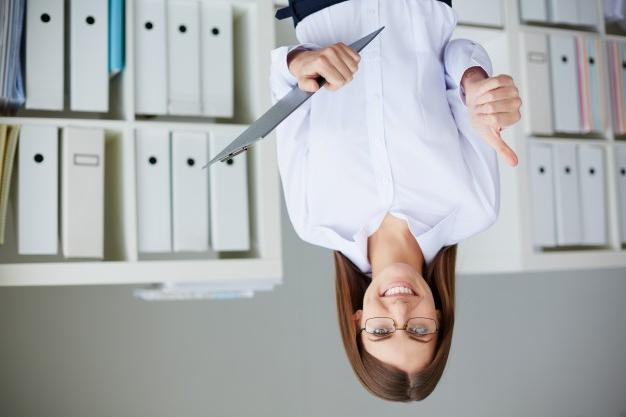thumbsdown: (474, 73, 523, 167)
